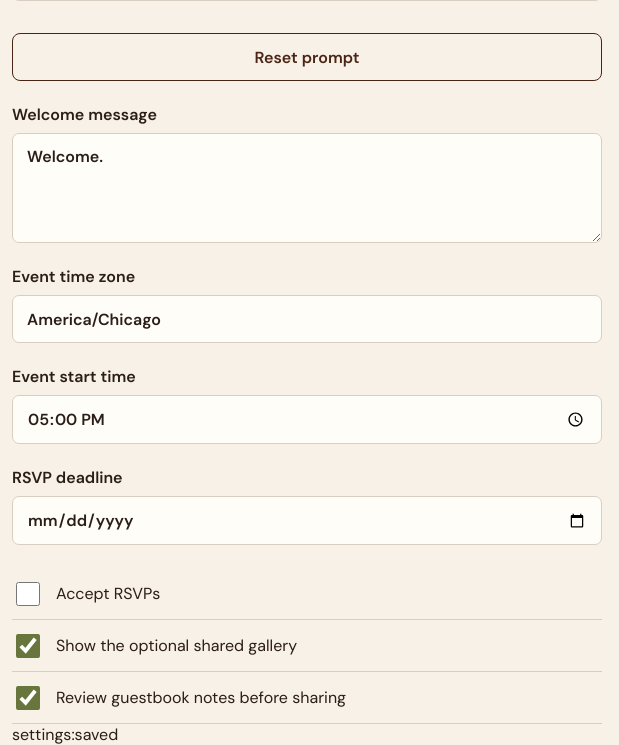
Test: event settings editor › requires a deadline before changing another setting on a legacy event
(page scrolled)
What coordinates should you click on to do the following:
click the checkbox labelled "Review guestbook notes before sharing"
I would click on:
 (28, 698)
Its box is 16,686 -> 40,710.
(page scrolled)
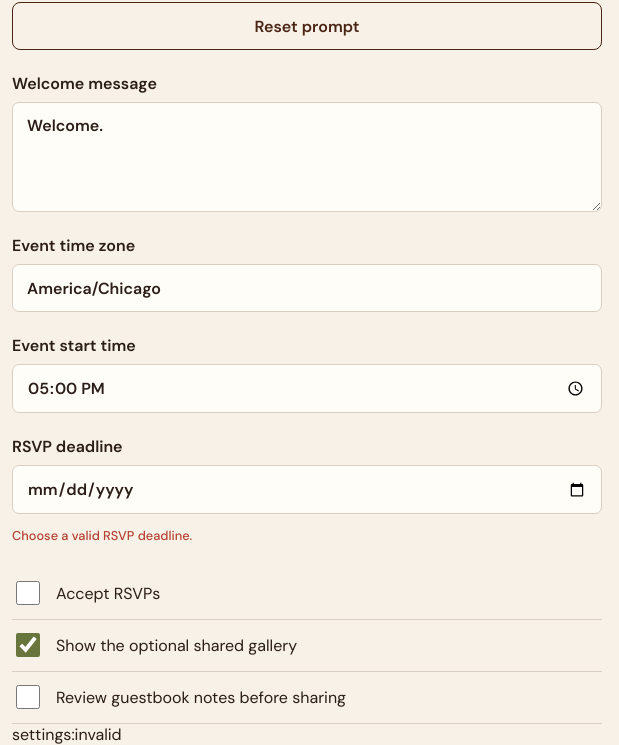
Result: the text with test id "domain-state" reads "settings:invalid" at 12,724 -> 122,744
